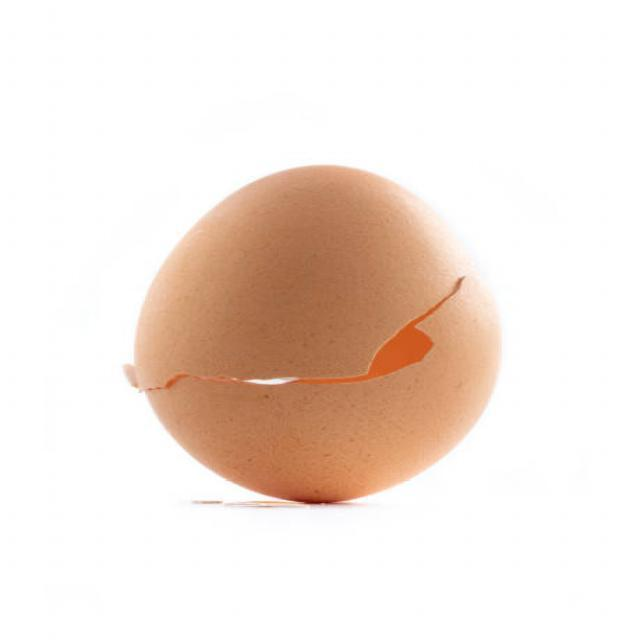biodegradable: (109, 158, 518, 516)
